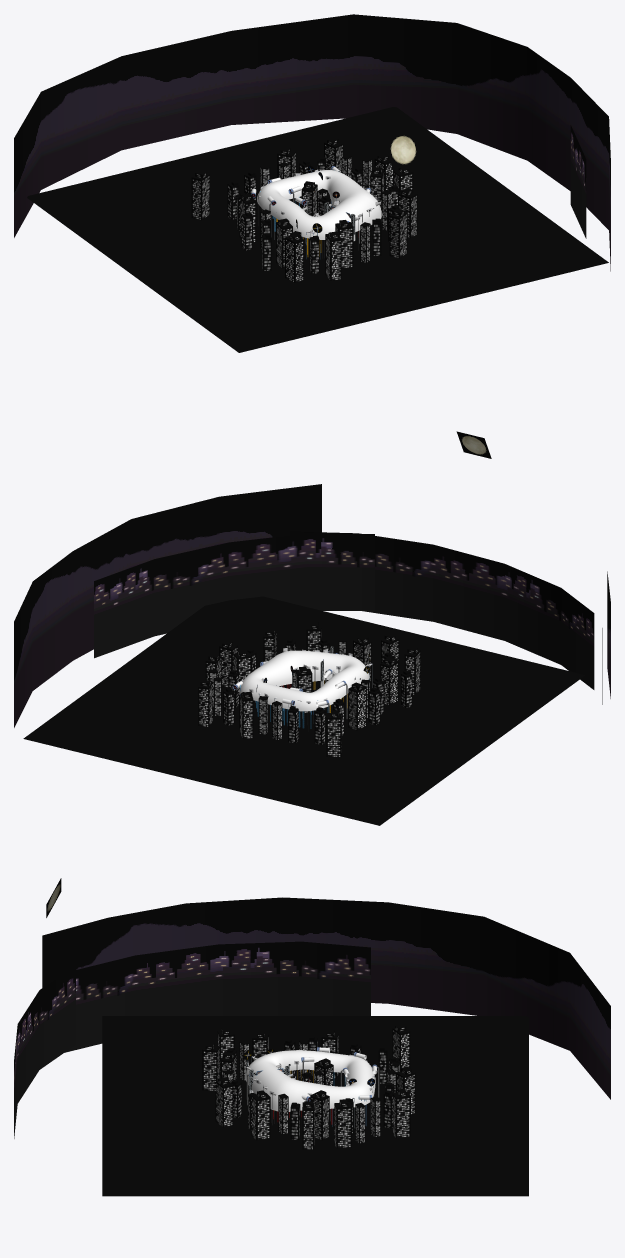
The picture shows the model from 3 angles, top to bottom: view 1: azimuth 30°, elevation 25°; view 2: azimuth 150°, elevation 25°; view 3: azimuth 270°, elevation 25°; orthographic projection. The views are drawn at different scales.
Parts seen in each view (by area): view 1: bg_mountain, void, building, wind, bg_building, moon.001; view 2: void, bg_building, bg_mountain, building, wind, moon.001; view 3: void, bg_mountain, bg_building, building, wind.
Part boxes in pixels (bbox=[...]): bg_mountain: bbox=[14, 14, 610, 271]; void: bbox=[27, 107, 608, 352]; building: bbox=[191, 137, 417, 282]; wind: bbox=[257, 170, 382, 239]; bg_building: bbox=[570, 125, 586, 238]; moon.001: bbox=[385, 130, 421, 169]; void: bbox=[23, 596, 585, 825]; bg_building: bbox=[94, 531, 602, 704]; bg_mountain: bbox=[14, 484, 610, 727]; building: bbox=[198, 622, 420, 756]; wind: bbox=[239, 650, 369, 711]; moon.001: bbox=[456, 431, 491, 458]; void: bbox=[102, 1016, 528, 1196]; bg_mountain: bbox=[42, 897, 610, 1099]; bg_building: bbox=[14, 941, 370, 1138]; building: bbox=[202, 1024, 415, 1149]; wind: bbox=[244, 1050, 375, 1111].
Size of the model in its own units: 488843 by 220335 by 503823.
81 materials, 80 textured.
